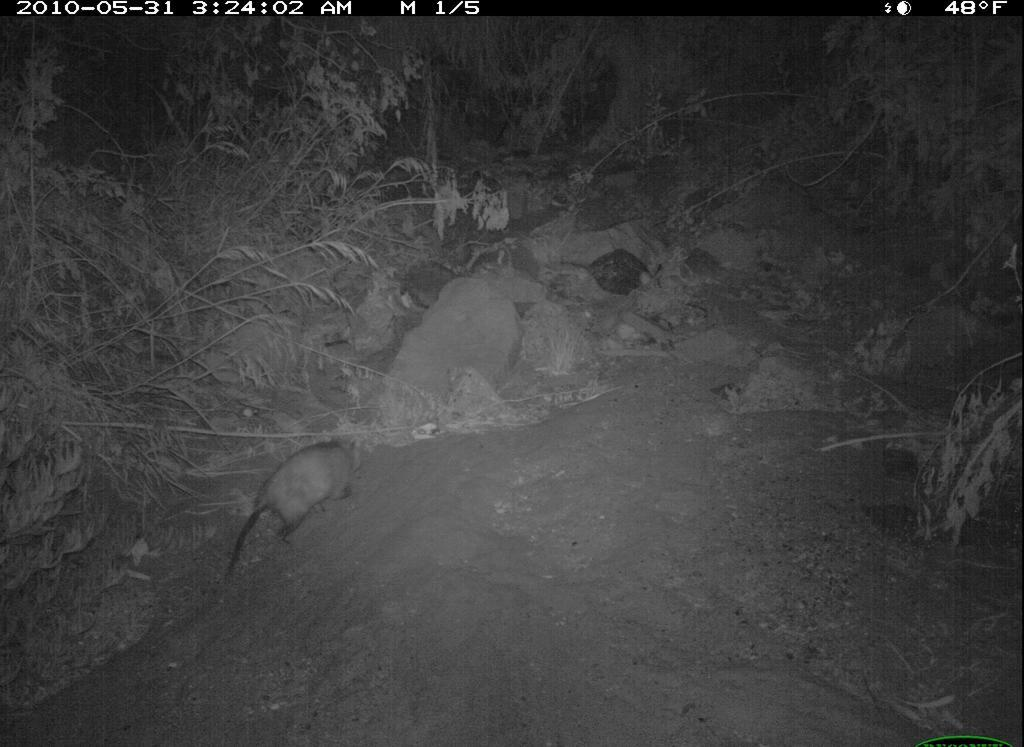opossum: (217, 432, 374, 588)
